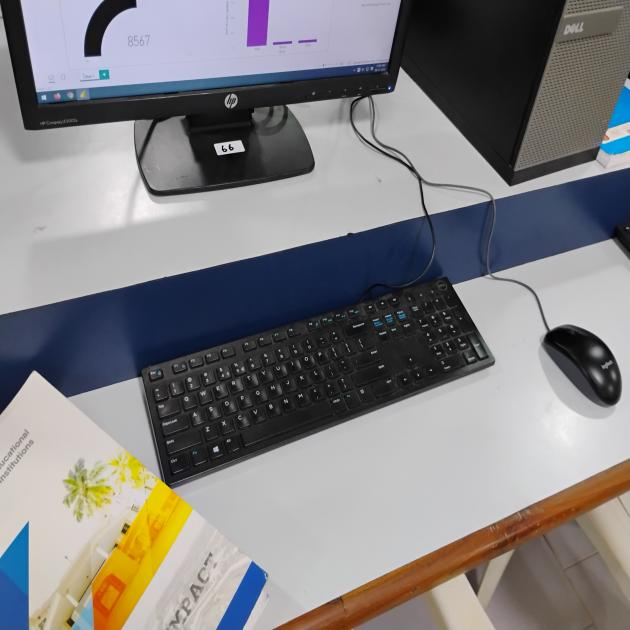computer: (0, 0, 434, 188)
keyboard: (142, 248, 520, 495)
mouse: (543, 301, 630, 413)
notebook: (0, 370, 262, 629)
